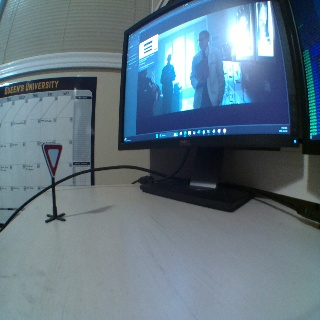sign_yield: (41, 141, 64, 175)
